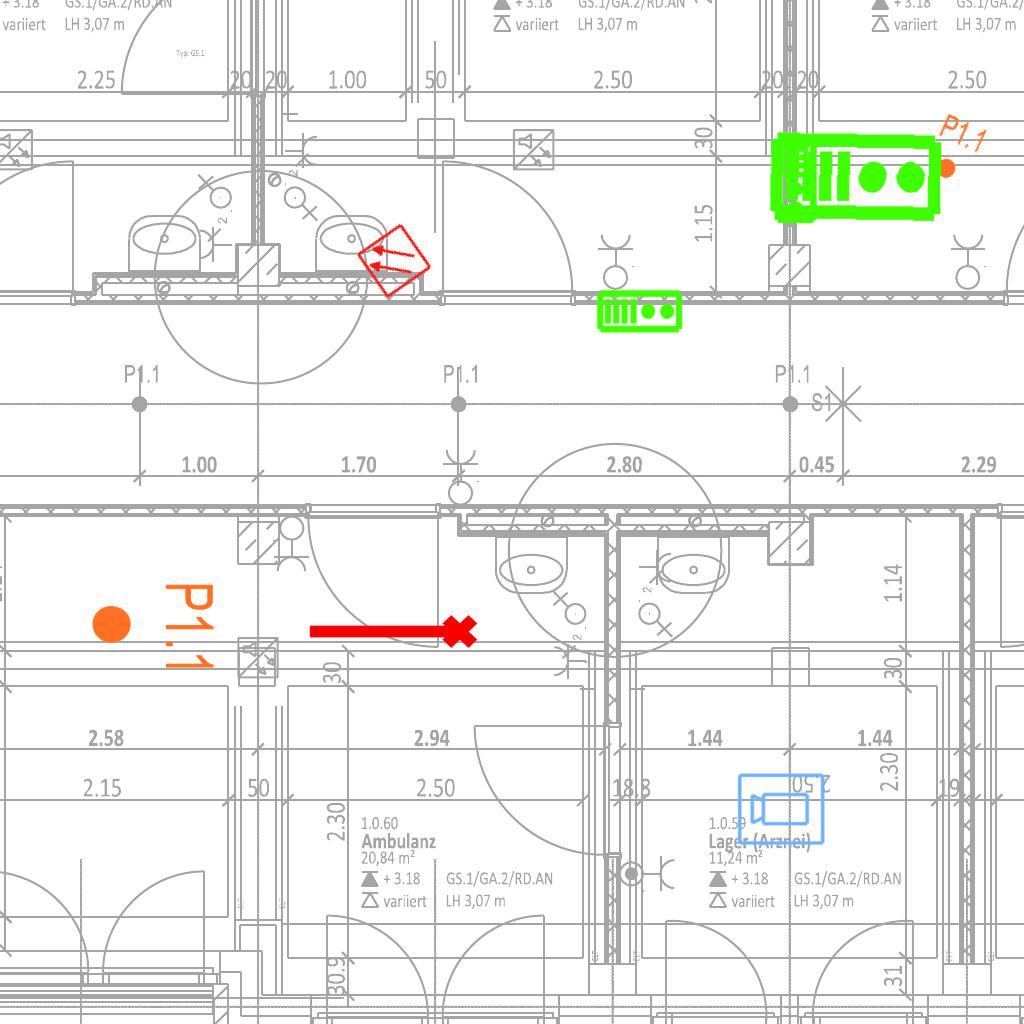ASR_Ansaugoeffnung: (304, 611, 480, 657)
Downlight_LED_Einbauleuchten_Flur: (89, 581, 217, 674), (921, 111, 991, 189)
Gegensprechanlage_mit_Video: (767, 125, 946, 225), (596, 287, 684, 334), (773, 137, 820, 225)
KFO_Kamera_mit_Festobjektiv: (736, 770, 827, 847)
RMO_Rauchmelder_optischer: (355, 222, 433, 300)
